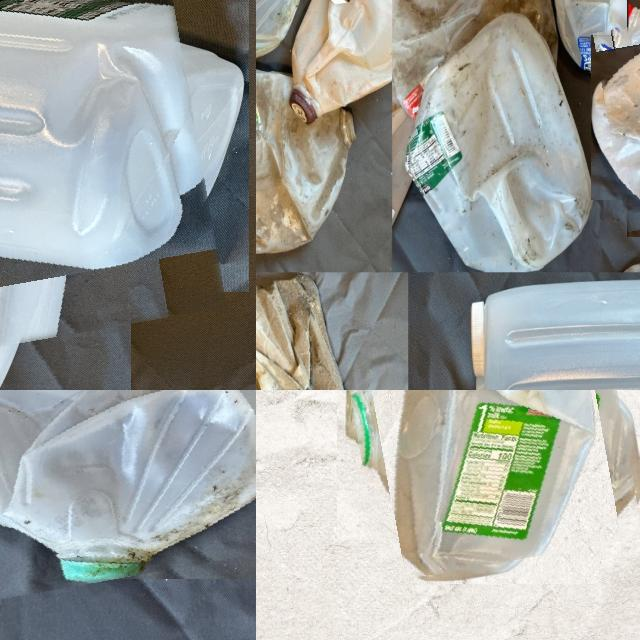milk-jug: (0, 0, 208, 369), (0, 390, 256, 592), (348, 390, 632, 572), (406, 11, 586, 267), (256, 76, 362, 260), (471, 276, 640, 390), (391, 0, 559, 98), (282, 0, 395, 112), (256, 279, 340, 390), (561, 0, 640, 94)
